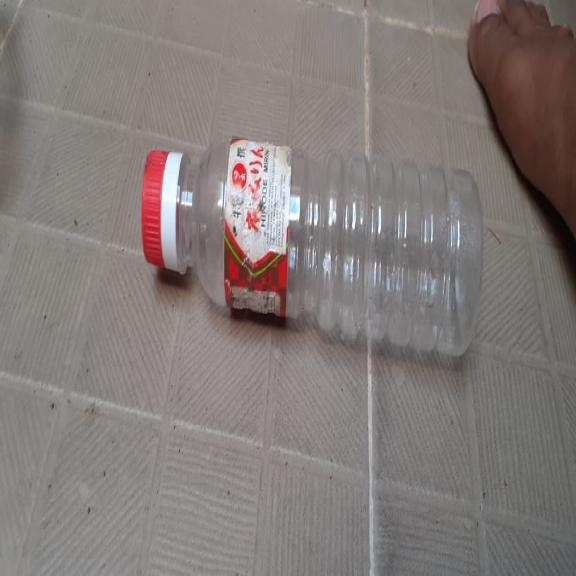Plastik: (141, 133, 484, 358)
